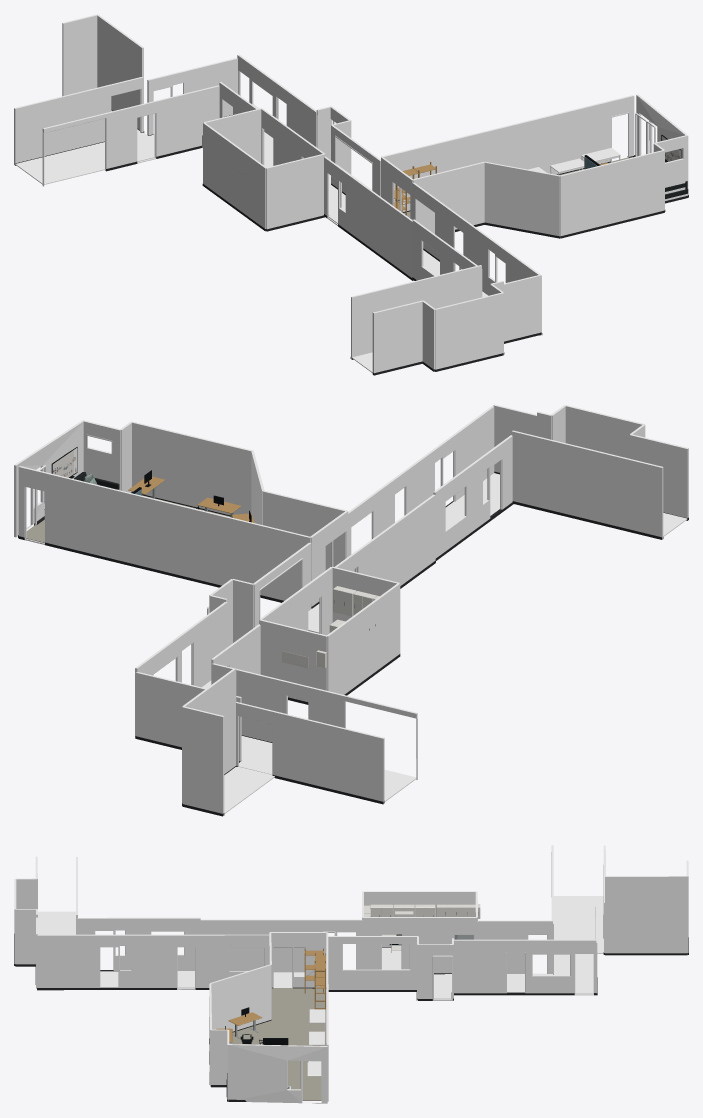
The model's file is model-86074bddc607.glb.
3 views of the same model, one above another, from view 1: azimuth 30°, elevation 25°; view 2: azimuth 150°, elevation 25°; view 3: azimuth 270°, elevation 25° (orthographic). The views are drawn at different scales.
Visible parts, largest first — view 1: architecture_region_lab-wall-1, architecture_region_lab-wall-5, architecture_region_north-inner, architecture_region_north-outer, architecture_region_lab-hall-west, architecture_region_lab-wall-6, architecture_region_west-inner, architecture_region_west-alcove-back, architecture_region_kitchen-wall-4, architecture_region_kitchen-wall-3, architecture_region_south-hall-east, architecture_region_west-outer-left (+20 smaller); view 2: architecture_region_lab-wall-1, architecture_region_west-inner, architecture_region_lab-wall-5, architecture_region_north-outer, architecture_region_south-hall-east, architecture_region_kitchen-wall-4, architecture_region_north-inner, architecture_region_lab-hall-west, architecture_region_stair-north, architecture_region_south-hall-west, architecture_region_north-entry, architecture_region_kitchen-wall-1 (+21 smaller); view 3: architecture_region_south-hall-east, architecture_region_stair-east, architecture_region_central-east, architecture_region_lab-wall-2, architecture_floor_lab-2f, architecture_region_lab-hall-west, architecture_region_kitchen-wall-2, architecture_floor_north-hall-2f, architecture_region_central-east-south, architecture_region_lab-wall-6, architecture_region_south-hall-west, architecture_region_central-west (+11 smaller).
Part boxes in pixels (<box>): architecture_region_lab-wall-1: <box>381,95,634,211</box>; architecture_region_lab-wall-5: <box>560,150,664,237</box>; architecture_region_north-inner: <box>42,85,219,186</box>; architecture_region_north-outer: <box>14,85,108,165</box>; architecture_region_lab-hall-west: <box>324,156,412,277</box>; architecture_region_lab-wall-6: <box>484,161,560,236</box>; architecture_region_west-inner: <box>351,265,481,359</box>; architecture_region_west-alcove-back: <box>434,292,503,369</box>; architecture_region_kitchen-wall-4: <box>203,122,266,228</box>; architecture_region_kitchen-wall-3: <box>266,154,324,229</box>; architecture_region_south-hall-east: <box>412,182,541,335</box>; architecture_region_west-outer-left: <box>372,300,422,373</box>; architecture_region_lab-wall-1: <box>18,466,310,600</box>; architecture_region_west-inner: <box>511,430,663,539</box>; architecture_region_lab-wall-5: <box>131,421,253,515</box>; architecture_region_north-outer: <box>275,711,384,803</box>; architecture_region_south-hall-east: <box>348,405,494,571</box>; architecture_region_kitchen-wall-4: <box>326,583,400,694</box>; architecture_region_north-inner: <box>211,663,417,779</box>; architecture_region_lab-hall-west: <box>335,494,435,585</box>; architecture_region_stair-north: <box>182,706,224,815</box>; architecture_region_south-hall-west: <box>433,435,512,557</box>; architecture_region_north-entry: <box>135,672,241,761</box>; architecture_region_kitchen-wall-1: <box>259,619,327,701</box>; architecture_region_south-hall-east: <box>37,934,269,989</box>; architecture_region_stair-east: <box>605,876,687,953</box>; architecture_region_central-east: <box>454,939,596,995</box>; architecture_region_lab-wall-2: <box>228,1044,327,1103</box>; architecture_floor_lab-2f: <box>229,988,326,1100</box>; architecture_region_lab-hall-west: <box>200,919,362,972</box>; architecture_region_kitchen-wall-2: <box>363,917,476,973</box>; architecture_floor_north-hall-2f: <box>553,896,603,994</box>; architecture_region_central-east-south: <box>328,936,417,989</box>; architecture_region_lab-wall-6: <box>210,964,271,1031</box>; architecture_region_south-hall-west: <box>77,917,200,970</box>; architecture_region_central-west: <box>477,920,552,973</box>.
Bounding box in the file's own units: 24.21 × 4.21 × 32.79.
29 materials, 1 textured.
